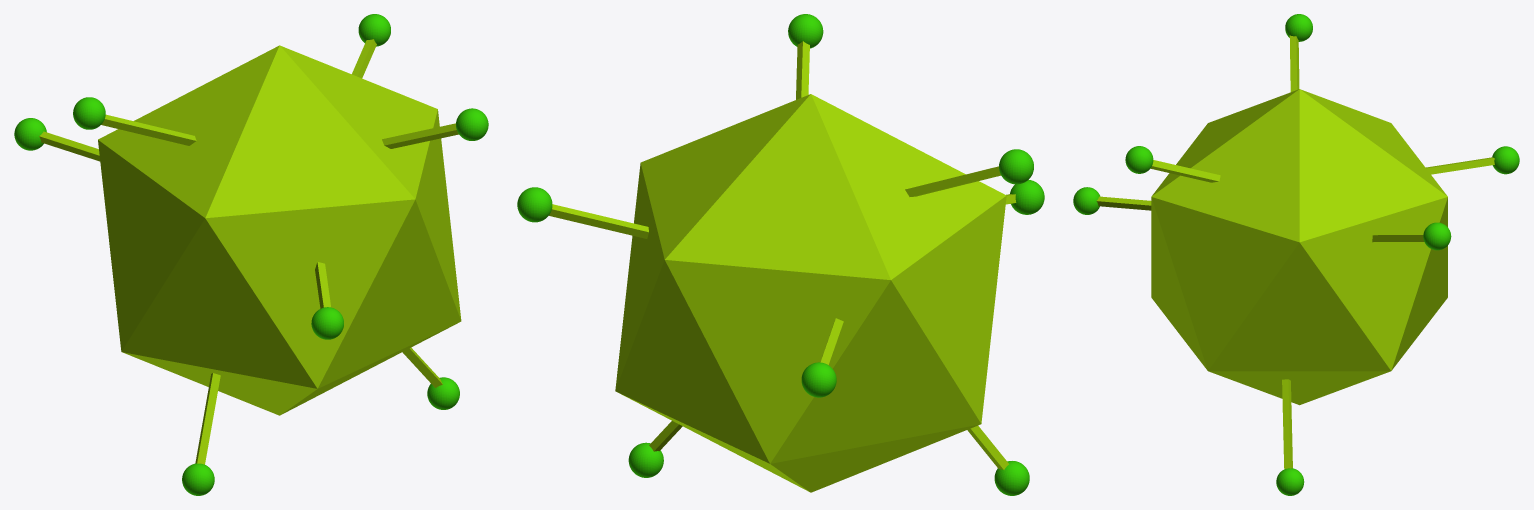
Rendered from bacteria4.fbx.
3 views of the same model, side by side, from view 1: azimuth 30°, elevation 25°; view 2: azimuth 150°, elevation 25°; view 3: azimuth 270°, elevation 25° (orthographic). The views are drawn at different scales.
Visible parts, largest first — view 1: Icosphere.002, Cube.006, Cube.004, Cube, Sphere.006, Sphere.003, Sphere.004, Sphere, Sphere.002, Sphere.001, Sphere.005, Cube.002 (+1 smaller); view 2: Icosphere.002, Cube.001, Sphere.002, Sphere.001, Sphere.006, Cube.006, Sphere.005, Sphere.003, Sphere, Sphere.004, Cube, Cube.004; view 3: Icosphere.002, Cube.005, Cube, Sphere.001, Sphere, Sphere.005, Sphere.002, Sphere.004, Sphere.006, Cube.002, Cube.003, Cube.006.
Part boxes in pixels (<box>): Icosphere.002: <box>98,45,461,415</box>; Cube.006: <box>101,114,196,145</box>; Cube.004: <box>195,373,220,464</box>; Cube: <box>382,123,458,148</box>; Sphere.006: <box>73,97,105,129</box>; Sphere.003: <box>182,463,214,495</box>; Sphere.004: <box>311,307,343,339</box>; Sphere: <box>456,108,488,140</box>; Sphere.002: <box>14,118,46,150</box>; Sphere.001: <box>358,14,390,46</box>; Sphere.005: <box>427,377,459,409</box>; Cube.002: <box>39,131,100,161</box>; Icosphere.002: <box>615,94,1006,492</box>; Cube.001: <box>549,204,648,238</box>; Sphere.002: <box>801,362,836,397</box>; Sphere.001: <box>517,187,552,222</box>; Sphere.006: <box>999,149,1033,184</box>; Cube.006: <box>905,166,1000,196</box>; Sphere.005: <box>628,442,663,477</box>; Sphere.003: <box>994,461,1029,495</box>; Sphere: <box>788,14,823,48</box>; Sphere.004: <box>1010,179,1044,214</box>; Cube: <box>796,41,809,99</box>; Cube.004: <box>967,425,1008,469</box>; Icosphere.002: <box>1151,89,1447,405</box>; Cube.005: <box>1282,379,1292,469</box>; Cube: <box>1150,160,1220,182</box>; Sphere.001: <box>1423,222,1451,250</box>; Sphere: <box>1125,146,1153,173</box>; Sphere.005: <box>1276,468,1304,495</box>; Sphere.002: <box>1492,146,1519,174</box>; Sphere.004: <box>1073,187,1100,214</box>; Sphere.006: <box>1285,14,1312,41</box>; Cube.002: <box>1426,157,1494,174</box>; Cube.003: <box>1096,196,1151,210</box>; Cube.006: <box>1289,35,1299,91</box>.
Bounding box in the file's own units: 223 × 215 × 256.
